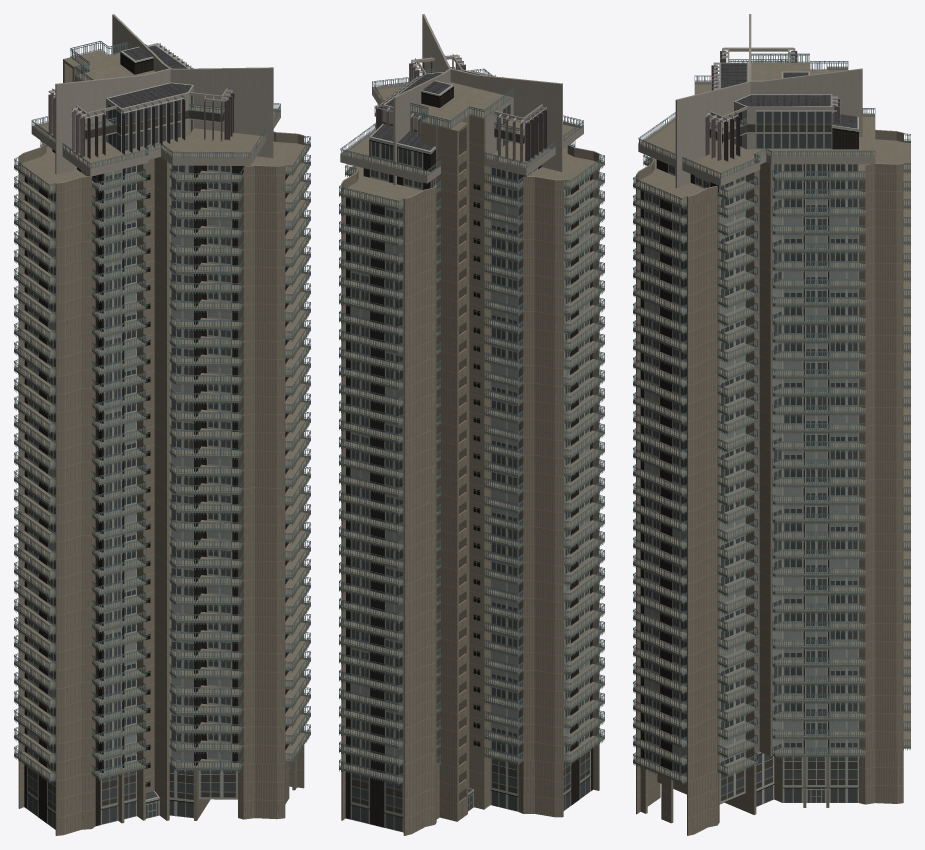
File: le_millefiori.glb
The picture shows the model from 3 angles, left to right: view 1: azimuth 30°, elevation 25°; view 2: azimuth 150°, elevation 25°; view 3: azimuth 270°, elevation 25°; orthographic projection. The views are drawn at different scales.
Visible parts, largest first — view 1: Object003_skp_front_default_0; view 2: Object003_skp_front_default_0; view 3: Object003_skp_front_default_0.
Boxes of the visible parts, x1=… form: Object003_skp_front_default_0: x1=14, y1=14, x2=310, y2=835; Object003_skp_front_default_0: x1=339, y1=14, x2=604, y2=835; Object003_skp_front_default_0: x1=633, y1=14, x2=910, y2=835.
Bounding box in the file's own units: 3913 × 11170 × 3914.
1 material, 1 textured.
